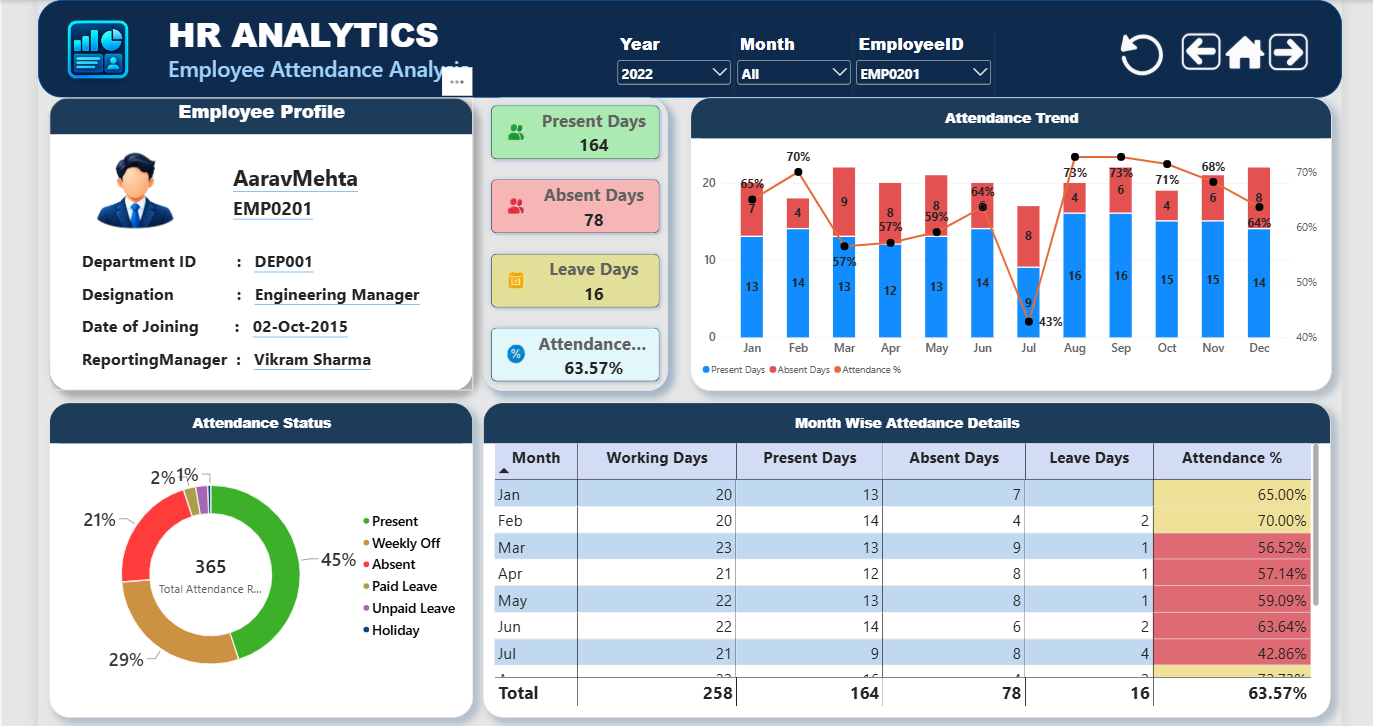

The dashboard page shown, as its layout file describes it:
{"tool":"powerbi","page":{"name":"Employee Attendance","canvas":[1920,1080],"ordinal":2},"visuals":[{"type":"shape","box":[0,0,1920,144],"z":0},{"type":"image","box":[1744,48,64,56.9],"z":0,"group":"g2"},{"type":"textbox","box":[192,16,696,96],"z":1000},{"type":"image","box":[1808,48,64,56.9],"z":1000,"group":"g2"},{"type":"slicer","fields":{"Values":["Employees.EmployeeID"]},"box":[1200,48,208,96],"z":2000,"group":"g3"},{"type":"image","box":[1680,48,64,56.9],"z":2000,"group":"g2"},{"type":"textbox","box":[192,80,512,48],"z":2000},{"type":"slicer","fields":{"Values":["Calender.Year"]},"box":[848,48,176,96],"z":2012,"group":"g1"},{"type":"image","box":[16,16,144,112],"z":3000},{"type":"slicer","fields":{"Values":["Calender.Month Name"]},"box":[1024,48,176,96],"z":3000,"group":"g3"},{"type":"group","id":"g1","title":"Group 2","box":[848,48,176,96],"z":4000,"group":"g3"},{"type":"group","id":"g2","title":"Group 1","box":[1680,48,192,48],"z":4000},{"type":"cardVisual","fields":{"Data":["All_Measures.Present Days","All_Measures.Absent Days","All_Measures.Leave Days","All_Measures.Attendance%"]},"box":[656,144,272,432],"z":5000},{"type":"donutChart","title":"Attendance Status","fields":{"Category":["Attendance.Status"],"Y":["All_Measures.Total Attendance Records"]},"box":[16,592,624,464],"z":6000},{"type":"group","id":"g3","title":"Group 3","box":[848,48,544,96],"z":7000},{"type":"lineStackedColumnComboChart","title":"Attendance Trend","fields":{"Category":["Calender.Month"],"Y":["All_Measures.Present Days","All_Measures.Absent Days"],"Y2":["All_Measures.Attendance %"]},"box":[960,144,944,432],"z":8000},{"type":"shape","title":"   Employee Profile","box":[16,144,624,432],"z":9000},{"type":"tableEx","title":"Month Wise Attedance Details","fields":{"Values":["Calender.Month","All_Measures.Working Days","All_Measures.Present Days","All_Measures.Absent Days","All_Measures.Leave Days","All_Measures.Attendance %"]},"box":[656,592,1248,464],"z":10000},{"type":"textbox","box":[64,368,528,46.8],"z":11000},{"type":"textbox","box":[64,416,560,46.8],"z":12000},{"type":"textbox","box":[64,464,528,46.8],"z":13000},{"type":"textbox","box":[64,512,528,46.8],"z":14000},{"type":"textbox","box":[288,240,256,46.8],"z":15000},{"type":"textbox","box":[288,288,320,48],"z":16000},{"type":"image","box":[32,224,224,112],"z":17000},{"type":"image","box":[1584,48,80,64],"z":18000}]}

Visuals, with their boxes on the page's 1920x1080 design canvas (x1, y1, x2, y2). These are canvas units, not pixel positions in the 1373x726 screenshot, which may show the page scaled, cropped or inside an application window:
shape: (0, 0, 1920, 144)
image: (1744, 48, 1808, 105)
textbox: (192, 16, 888, 112)
image: (1808, 48, 1872, 105)
slicer - Employees.EmployeeID: (1200, 48, 1408, 144)
image: (1680, 48, 1744, 105)
textbox: (192, 80, 704, 128)
slicer - Calender.Year: (848, 48, 1024, 144)
image: (16, 16, 160, 128)
slicer - Calender.Month Name: (1024, 48, 1200, 144)
"Group 2" group: (848, 48, 1024, 144)
"Group 1" group: (1680, 48, 1872, 96)
cardVisual - All_Measures.Present Days x All_Measures.Absent Days: (656, 144, 928, 576)
"Attendance Status" donutChart: (16, 592, 640, 1056)
"Group 3" group: (848, 48, 1392, 144)
"Attendance Trend" lineStackedColumnComboChart: (960, 144, 1904, 576)
"   Employee Profile" shape: (16, 144, 640, 576)
"Month Wise Attedance Details" tableEx: (656, 592, 1904, 1056)
textbox: (64, 368, 592, 415)
textbox: (64, 416, 624, 463)
textbox: (64, 464, 592, 511)
textbox: (64, 512, 592, 559)
textbox: (288, 240, 544, 287)
textbox: (288, 288, 608, 336)
image: (32, 224, 256, 336)
image: (1584, 48, 1664, 112)
